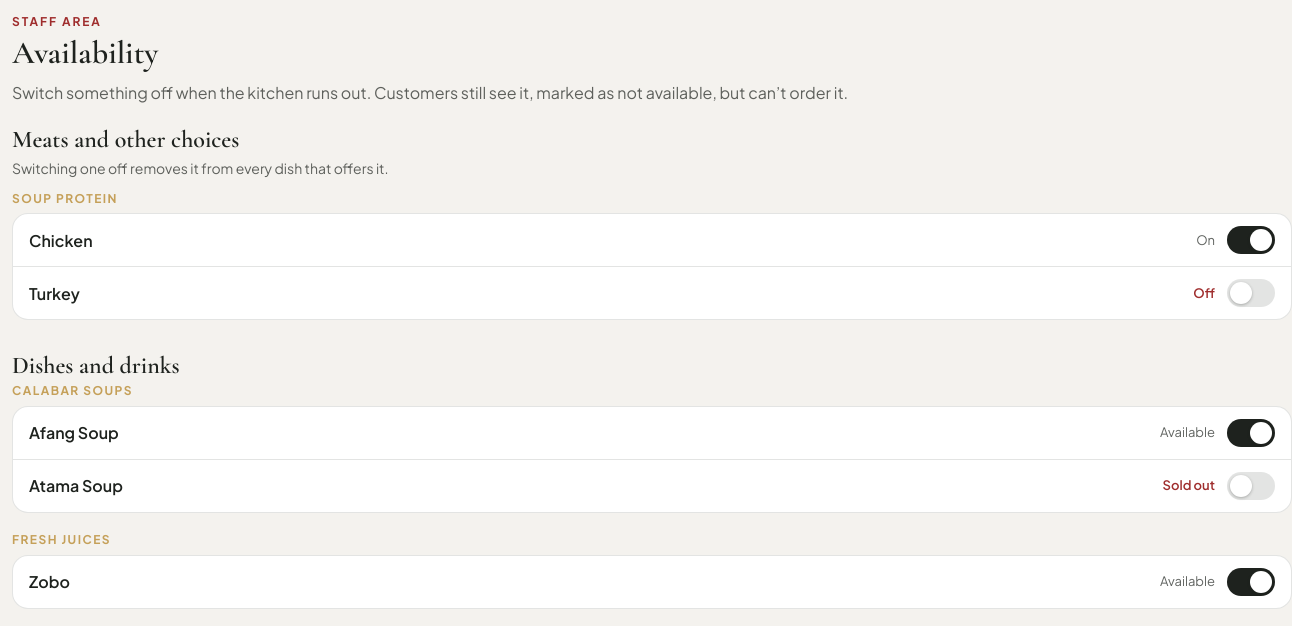
Test: AdminAvailabilityView › switches a dish off and says so
Click the switch named "Afang Soup available". click: x=1251, y=433
box: [1227,419,1275,447]
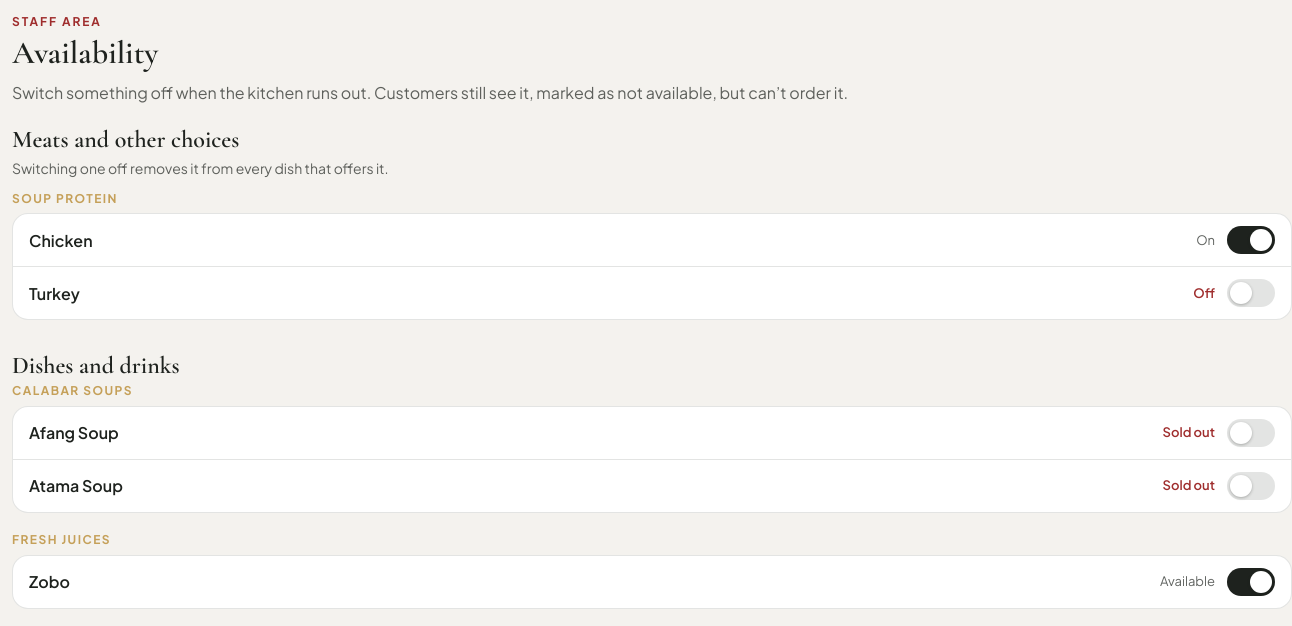
Now the list item with test id "availability-row" shows "Sold out", box [1162,424,1215,440]
